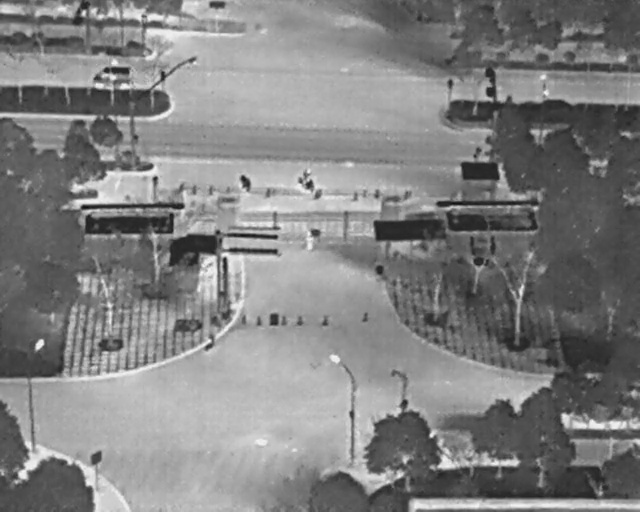Bicycle: (291, 165, 322, 199)
OtherVehicle: (91, 66, 133, 91)
Person: (304, 230, 315, 252)
